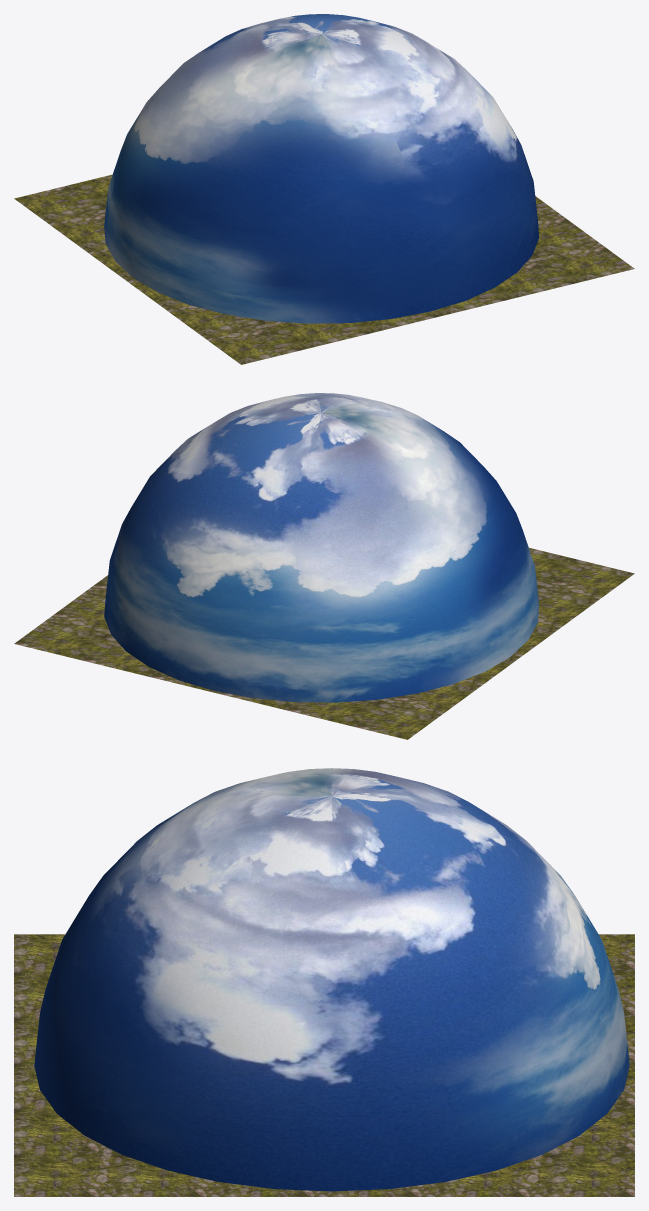
Rendered from background.FBX.
3 renders of one model, top to bottom at view 1: azimuth 30°, elevation 25°; view 2: azimuth 150°, elevation 25°; view 3: azimuth 270°, elevation 25°, orthographic. The views are drawn at different scales.
Parts seen in each view (by area): view 1: Sphere001, Plane001; view 2: Sphere001, Plane001; view 3: Sphere001, Plane001.
Part boxes in pixels (box(x1,y1,x2,y2)): Sphere001: box(104, 14, 539, 323); Plane001: box(14, 174, 634, 364); Sphere001: box(104, 393, 539, 702); Plane001: box(14, 547, 634, 739); Sphere001: box(34, 768, 629, 1191); Plane001: box(14, 934, 634, 1196).
Bounding box in the file's own units: 113 × 56.47 × 113.
